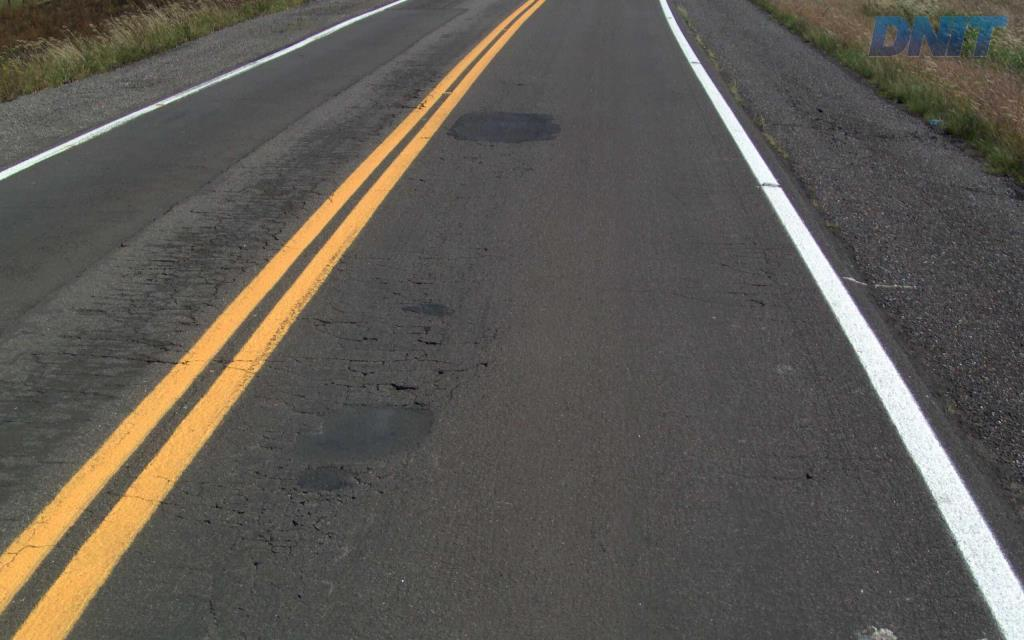crack: (295, 463, 372, 505), (401, 298, 455, 317)
